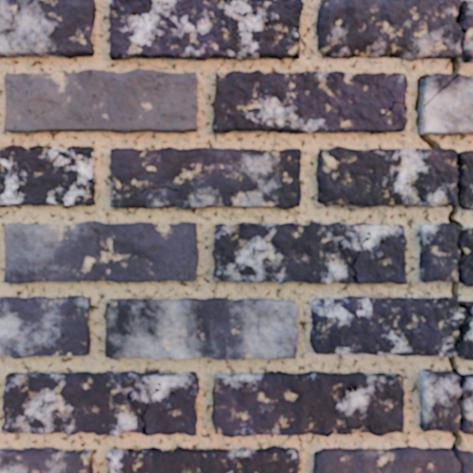brick: (2, 371, 198, 435), (212, 371, 403, 436), (212, 70, 407, 133), (4, 221, 197, 283), (5, 69, 197, 131), (213, 222, 406, 283), (106, 298, 298, 359), (110, 147, 300, 208), (109, 0, 303, 59), (0, 145, 94, 206), (0, 296, 90, 358), (0, 0, 95, 57), (107, 446, 298, 472), (421, 75, 472, 134), (0, 447, 92, 472), (421, 73, 454, 104), (382, 105, 406, 131)
broken_brick: (309, 295, 472, 357), (315, 0, 472, 63), (315, 145, 456, 207), (312, 445, 472, 472), (418, 368, 459, 433), (418, 222, 458, 283), (459, 373, 472, 435), (459, 150, 472, 210), (461, 227, 472, 286), (459, 321, 472, 360)
crack: (414, 2, 472, 470), (124, 382, 161, 436), (336, 231, 371, 284), (372, 89, 407, 131), (325, 425, 370, 436), (104, 313, 110, 321)
